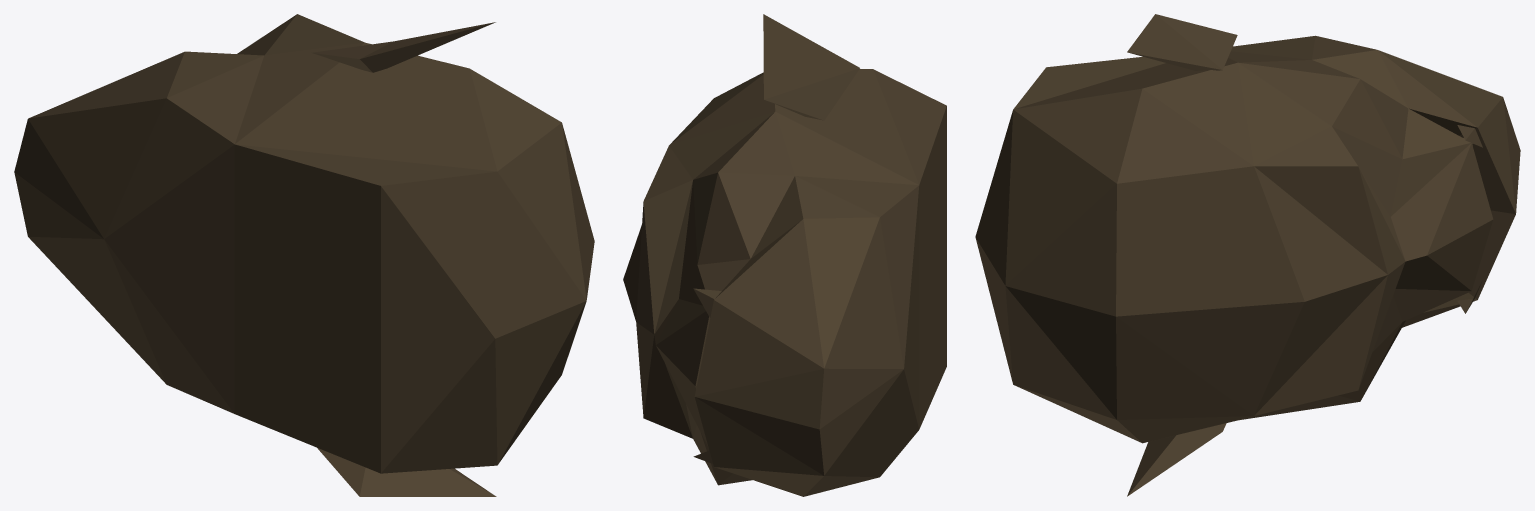
File: ORC_HEADSHAMAN.OBJ
3 renders of one model, left to right at view 1: azimuth 30°, elevation 25°; view 2: azimuth 150°, elevation 25°; view 3: azimuth 270°, elevation 25°, orthographic. The views are drawn at different scales.
Visible parts, largest first — view 1: ORC_HEADSHAMAN; view 2: ORC_HEADSHAMAN; view 3: ORC_HEADSHAMAN.
Boxes of the visible parts, <box> form: ORC_HEADSHAMAN: <box>14,14,594,496</box>; ORC_HEADSHAMAN: <box>623,14,946,496</box>; ORC_HEADSHAMAN: <box>975,14,1520,496</box>.
Size of the model in its own units: 0.3505 by 0.4349 by 0.4833.
